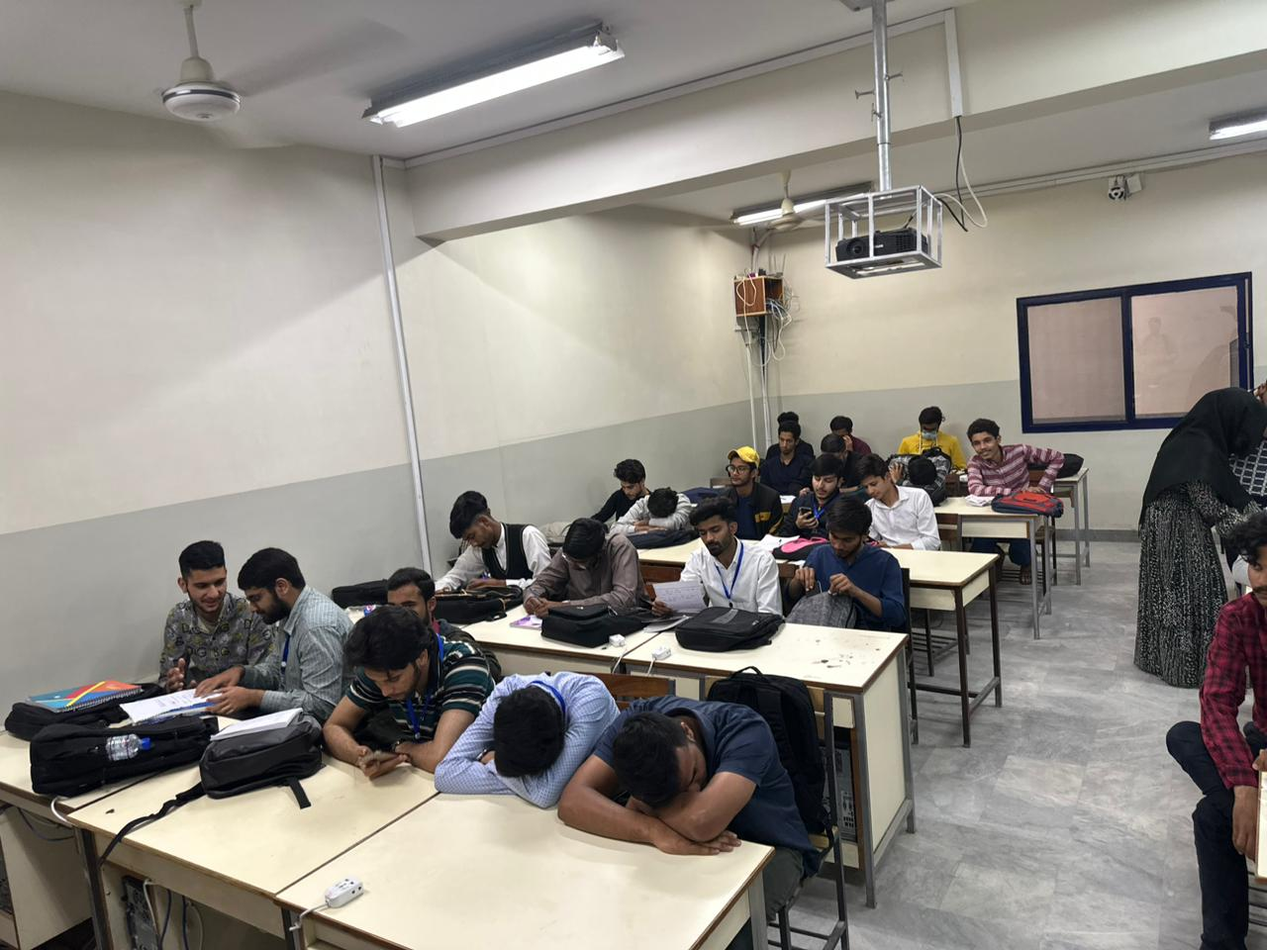non-cheating: (340, 601, 438, 712), (687, 494, 746, 568), (447, 486, 507, 557), (821, 489, 876, 566), (558, 511, 610, 581), (965, 417, 1009, 464), (723, 443, 761, 491), (611, 458, 649, 503), (809, 451, 843, 499), (915, 404, 947, 442), (775, 420, 802, 456)
phone: (347, 729, 428, 788)
